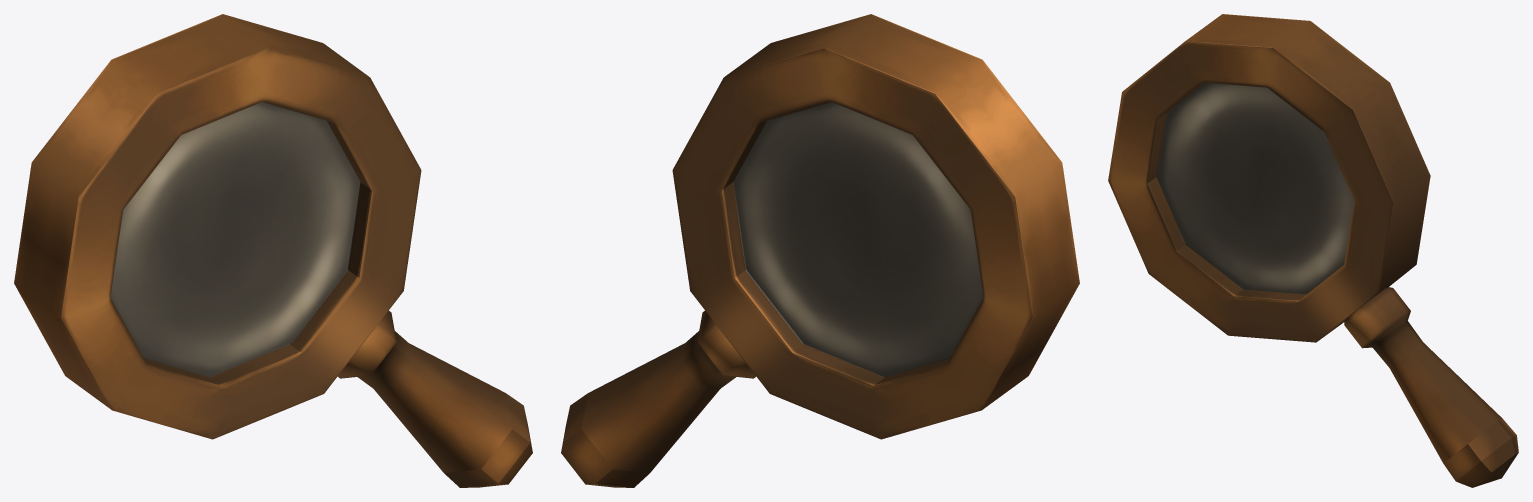
File: 50_magnifying glass.FBX
3 renders of one model, left to right at view 1: azimuth 30°, elevation 25°; view 2: azimuth 150°, elevation 25°; view 3: azimuth 330°, elevation 25°, orthographic. The views are drawn at different scales.
Parts seen in each view (by area): view 1: 50_magnifying glass; view 2: 50_magnifying glass; view 3: 50_magnifying glass.
Part boxes in pixels (left/top/right/bottom): 50_magnifying glass: left=14, top=14, right=532, bottom=487; 50_magnifying glass: left=561, top=14, right=1079, bottom=487; 50_magnifying glass: left=1108, top=14, right=1518, bottom=487.
Bounding box in the file's own units: 41.79 × 41.79 × 6.95.
